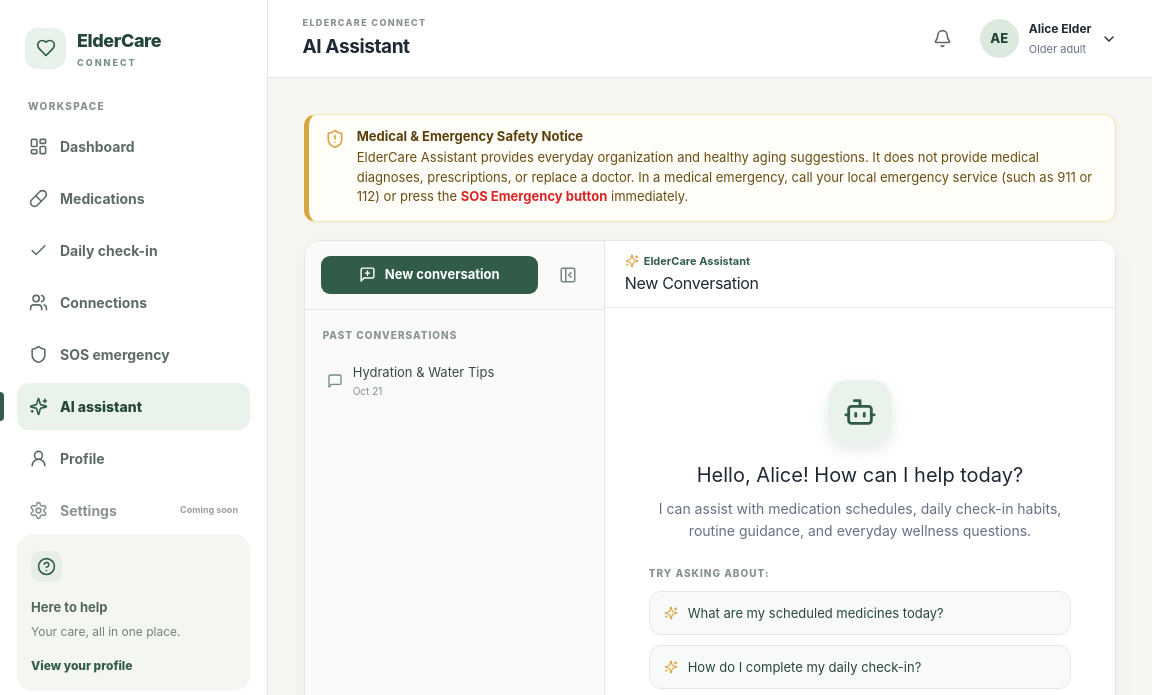
it: Module 7 AI Eldercare Assistant frontend workflows › allows copying assistant responses to the clipboard
The image size is (1152, 695).
Open conversation
Click the text "Hydration & Water Tips". click: (424, 372)
box: [353,364,494,380]
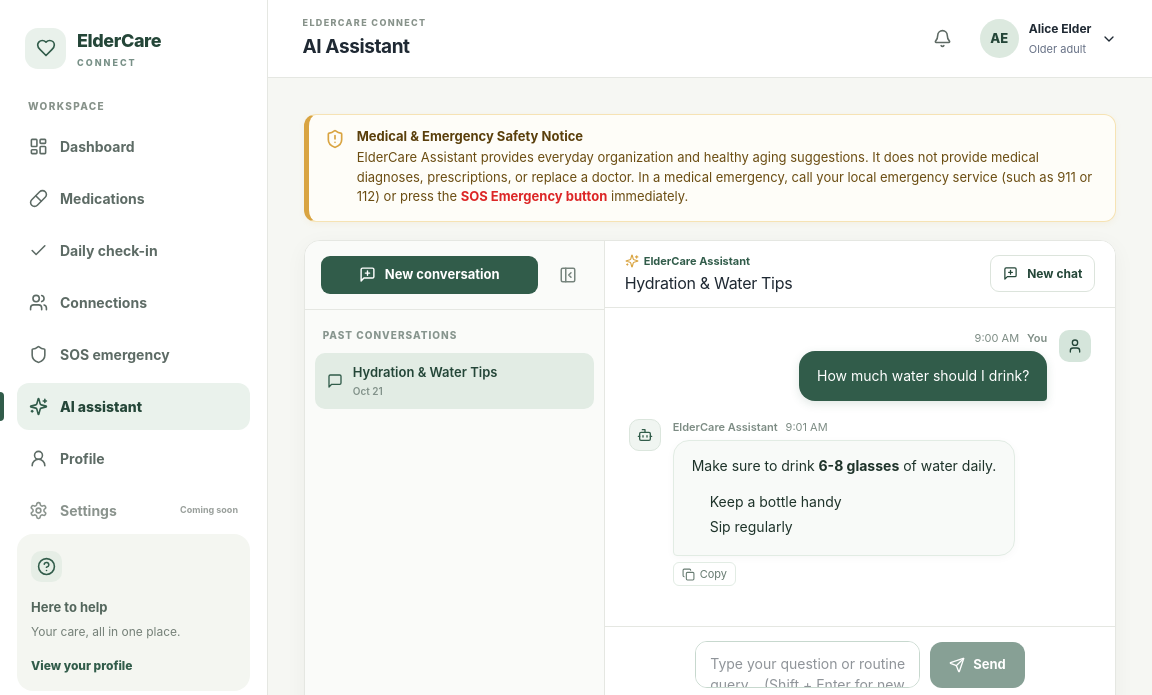
Expected: the text "How much water should I drink?" is shown, [817,365,1029,387]
Find Copy button
Click the button with aria-label "Copy assistant answer to clipboard". click: (704, 574)
box: [673,562,736,586]
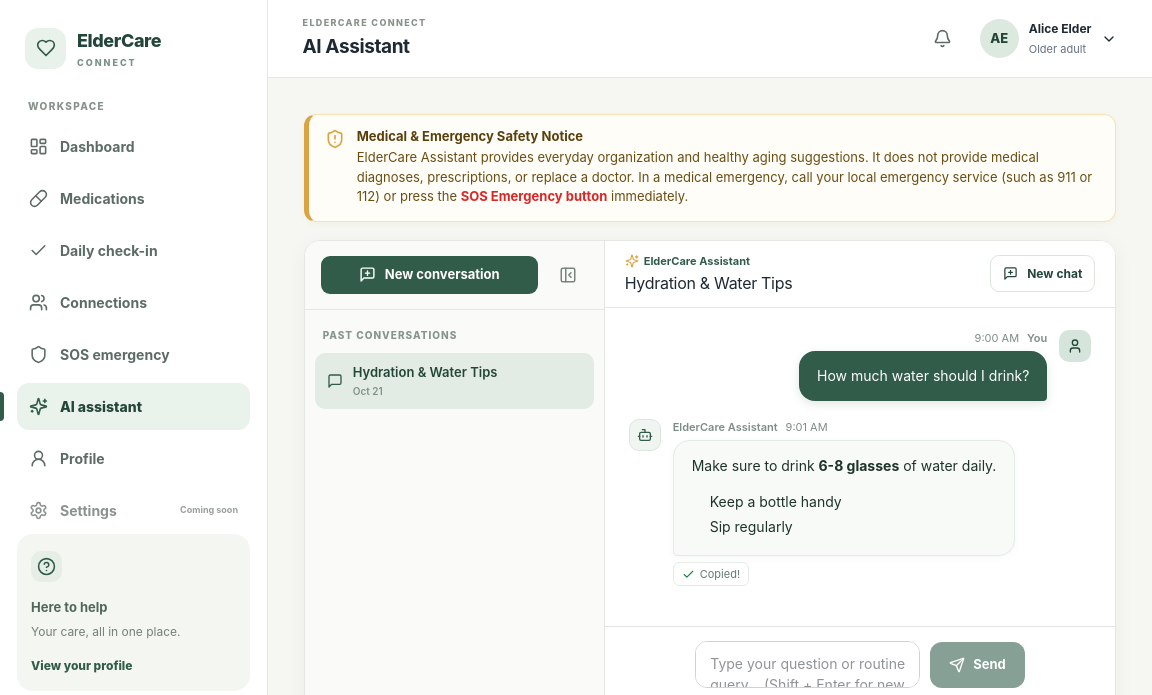
Expected: the text "Copied!" is shown, [700,566,740,582]
